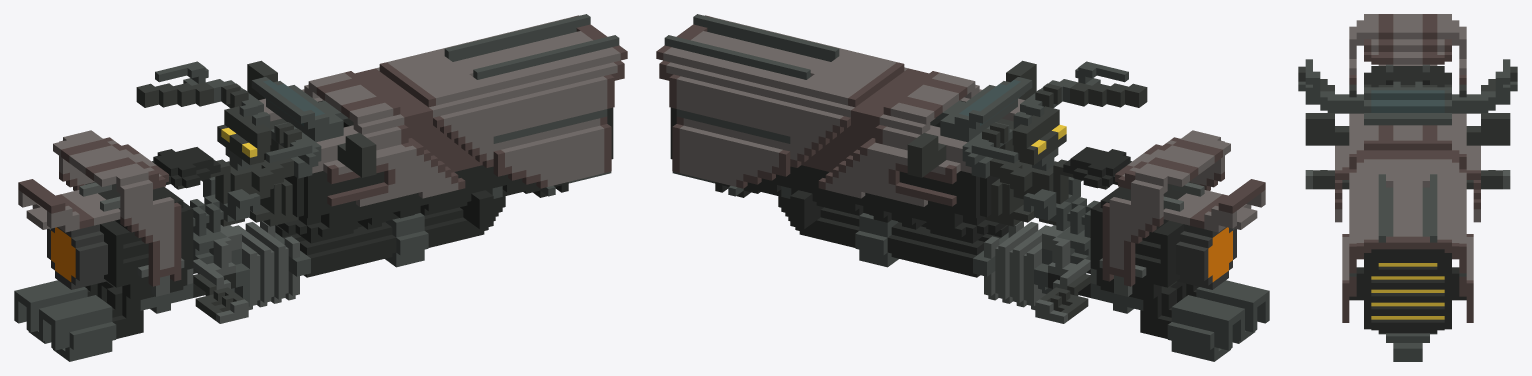
File: tracer.glb
3 renders of one model, left to right at view 1: azimuth 30°, elevation 25°; view 2: azimuth 150°, elevation 25°; view 3: azimuth 270°, elevation 25°, orthographic. The views are drawn at different scales.
Parts seen in each view (by area): view 1: Tracer; view 2: Tracer; view 3: Tracer.
Boxes of the visible parts, left/top/right/bottom form: Tracer: left=14, top=14, right=627, bottom=361; Tracer: left=656, top=14, right=1269, bottom=361; Tracer: left=1298, top=14, right=1517, bottom=361.
Bounding box in the file's own units: 8 × 2.6 × 3.
1 material, 1 textured.
